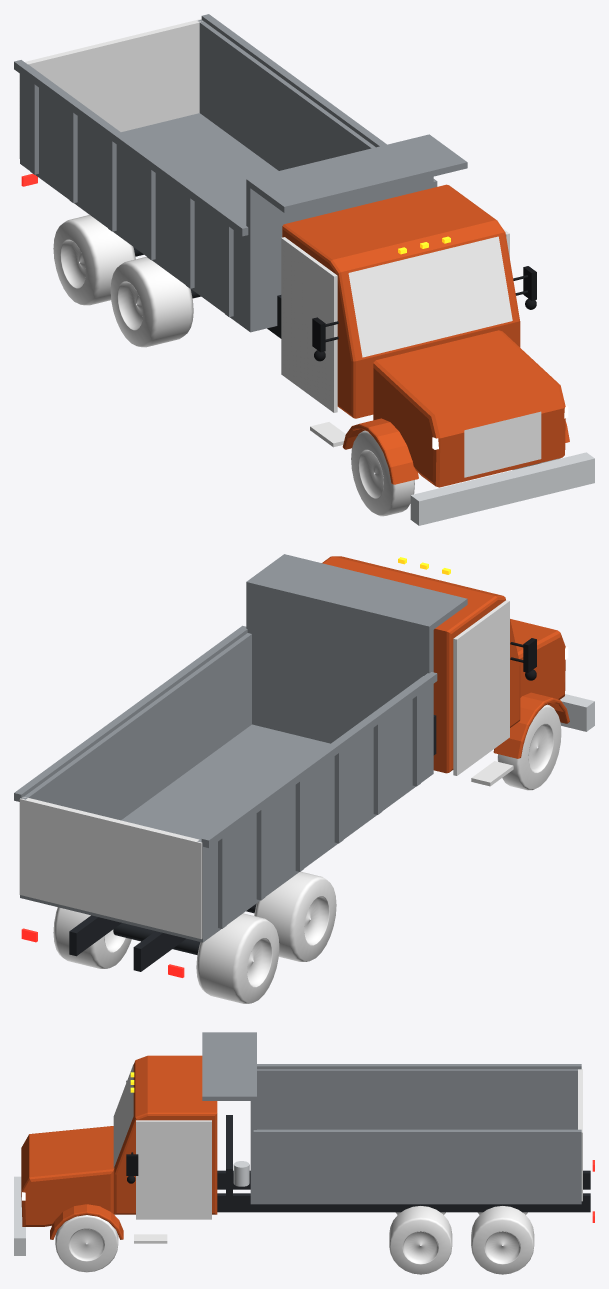
Rendered from equipment--dumpTruck.glb.
3 views of the same model, one above another, from view 1: azimuth 30°, elevation 25°; view 2: azimuth 150°, elevation 25°; view 3: azimuth 270°, elevation 25° (orthographic). The views are drawn at different scales.
Visible parts, largest first — view 1: dumpTruck:shell, bed, tailgate, doorR, axle2, axle3, wheelFR; view 2: bed, tailgate, dumpTruck:shell, axle3, doorR, axle2, wheelFR, mirrorR; view 3: bed, dumpTruck:shell, doorL, axle2, axle3, wheelFL, tailgate, hoist, mirrorL.
Boxes of the visible parts, x1,y1,x2,y2 form: dumpTruck:shell: [133, 184, 594, 525]; bed: [14, 14, 467, 332]; tailgate: [19, 19, 202, 158]; doorR: [281, 237, 337, 412]; axle2: [110, 256, 193, 347]; axle3: [53, 215, 135, 305]; wheelFR: [351, 430, 414, 516]; bed: [14, 554, 467, 942]; tailgate: [19, 797, 202, 939]; dumpTruck:shell: [69, 556, 594, 971]; axle3: [53, 907, 279, 1003]; doorR: [453, 600, 509, 775]; axle2: [254, 871, 336, 961]; wheelFR: [497, 704, 561, 790]; mirrorR: [510, 638, 536, 680]; bed: [202, 1032, 581, 1204]; dumpTruck:shell: [14, 1055, 590, 1255]; doorL: [136, 1120, 211, 1219]; axle2: [389, 1205, 452, 1274]; axle3: [471, 1205, 534, 1274]; wheelFL: [55, 1215, 118, 1272]; tailgate: [578, 1069, 582, 1201]; hoist: [233, 1161, 249, 1186]; mirrorL: [126, 1152, 138, 1183].
Size of the model in its own units: 3.02 by 3.26 by 9.57.
